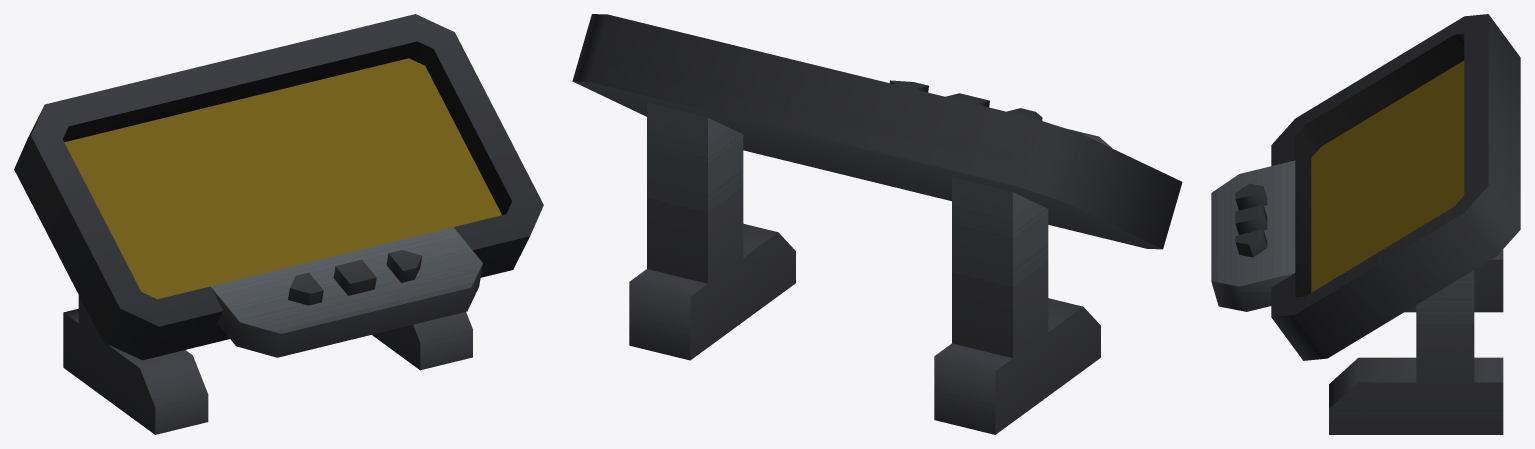
File: s_computer_wide.glb
The picture shows the model from 3 angles, left to right: view 1: azimuth 30°, elevation 25°; view 2: azimuth 150°, elevation 25°; view 3: azimuth 270°, elevation 25°; orthographic projection. The views are drawn at different scales.
Visible parts, largest first — view 1: computer-wide; view 2: computer-wide; view 3: computer-wide.
Part boxes in pixels (x1,y1,x2,y2): computer-wide: (14, 14, 543, 434); computer-wide: (572, 14, 1182, 434); computer-wide: (1211, 14, 1520, 434).
Size of the model in its own units: 0.8 by 0.4968 by 0.5332.
1 material, 1 textured.
